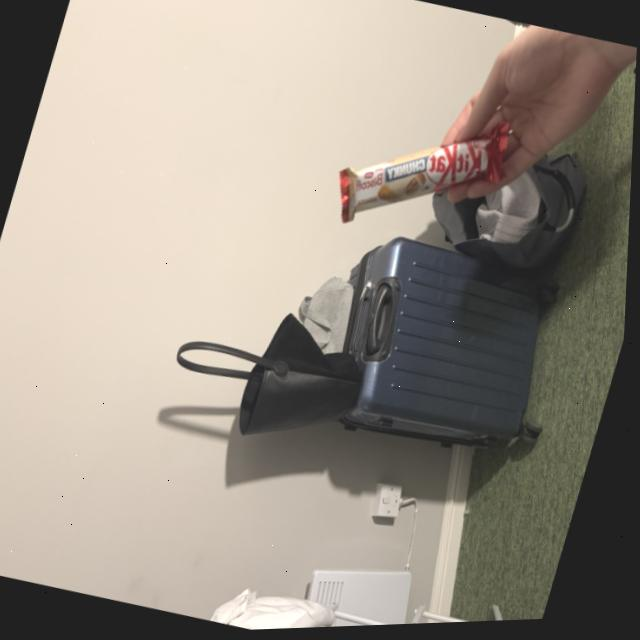chocolate: (323, 84, 530, 267)
